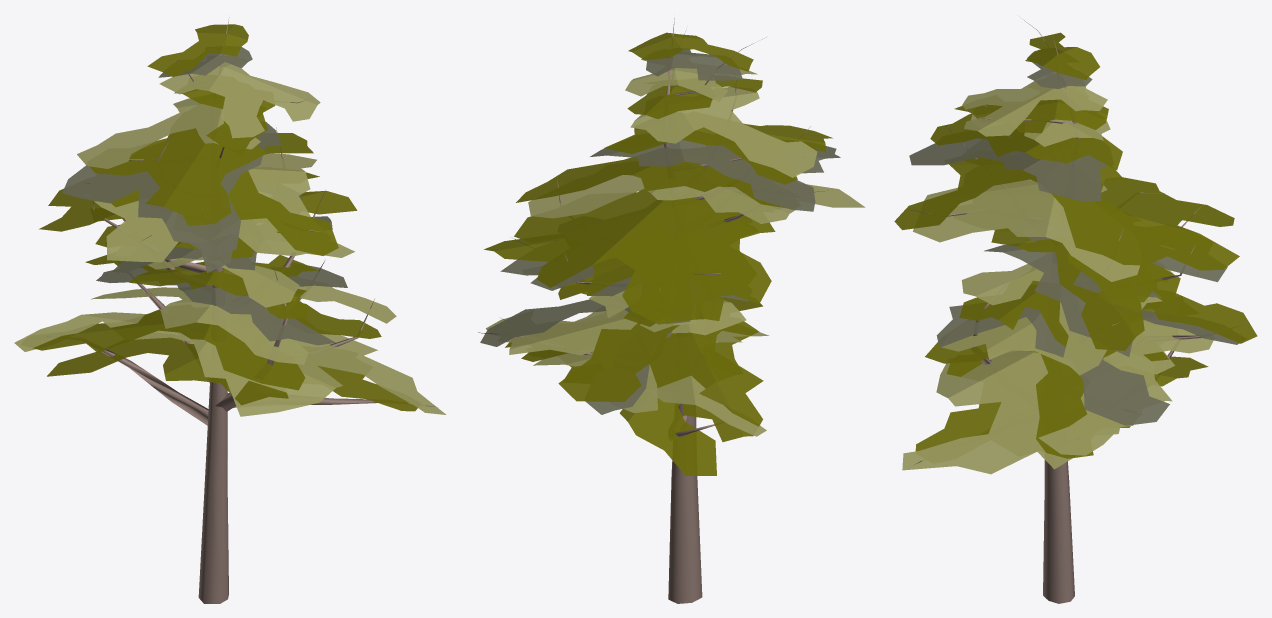
File: Tree2.dae
The picture shows the model from 3 angles, left to right: view 1: azimuth 30°, elevation 25°; view 2: azimuth 150°, elevation 25°; view 3: azimuth 270°, elevation 25°; orthographic projection. The views are drawn at different scales.
Visible parts, largest first — view 1: group_9, group_17, group_14, group_7, group_1 (×2), group_16, group_10, group_8, group_20, group_15, group_4, group_18 (+8 smaller); view 2: group_13, group_7, group_3, group_18, group_14, group_16, group_8, group_15, group_10, group_1, group_4, group_17 (+8 smaller); view 3: group_9, group_13, group_15, group_14, group_8, group_4, group_11, group_3, group_16, group_7, group_1, group_20 (+9 smaller).
Boxes of the visible parts, <box> form: group_9: <box>14,312,446,416</box>; group_17: <box>89,128,266,225</box>; group_14: <box>94,153,318,262</box>; group_7: <box>33,303,381,390</box>; group_1 (×2): <box>47,17,229,603</box>; group_16: <box>62,122,281,257</box>; group_10: <box>47,337,417,411</box>; group_8: <box>91,285,396,364</box>; group_20: <box>159,62,320,138</box>; group_15: <box>93,133,338,255</box>; group_4: <box>96,265,347,345</box>; group_18: <box>77,98,260,168</box>; group_13: <box>514,189,775,324</box>; group_7: <box>505,297,763,441</box>; group_3: <box>558,288,724,401</box>; group_18: <box>630,87,817,177</box>; group_14: <box>528,175,865,223</box>; group_16: <box>590,140,840,211</box>; group_8: <box>486,300,746,412</box>; group_15: <box>516,157,785,207</box>; group_10: <box>565,321,759,475</box>; group_1: <box>664,18,702,603</box>; group_4: <box>480,299,672,414</box>; group_17: <box>604,123,832,184</box>; group_9: <box>902,310,1174,474</box>; group_13: <box>994,177,1239,302</box>; group_15: <box>894,157,1147,265</box>; group_14: <box>913,179,1139,281</box>; group_8: <box>941,317,1213,455</box>; group_4: <box>936,305,1239,425</box>; group_11: <box>991,230,1180,350</box>; group_3: <box>959,280,1257,357</box>; group_16: <box>909,138,1108,201</box>; group_7: <box>925,304,1168,458</box>; group_1: <box>1043,38,1080,603</box>; group_20: <box>962,81,1107,136</box>.
Bounding box in the file's own units: 273 × 266 × 460.
